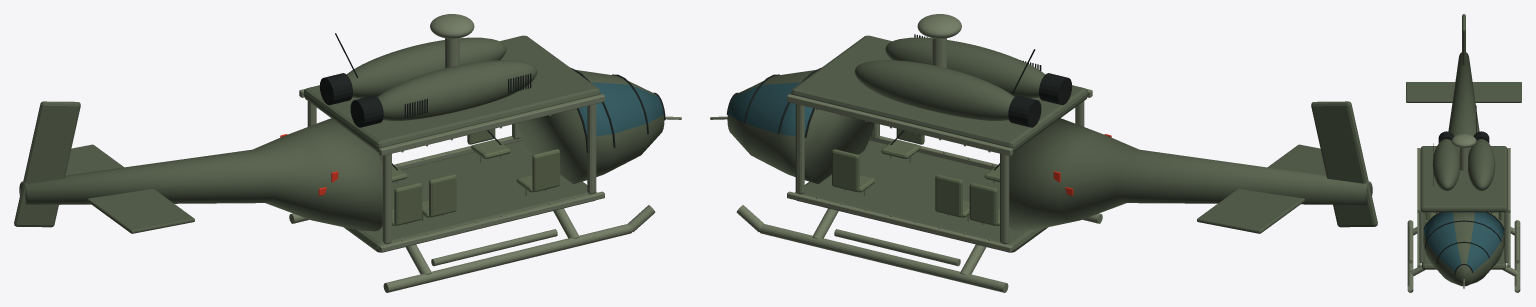
The model's file is RescueTransport.fbx.
3 views of the same model, side by side, from view 1: azimuth 30°, elevation 25°; view 2: azimuth 150°, elevation 25°; view 3: azimuth 270°, elevation 25° (orthographic). The views are drawn at different scales.
Parts seen in each view (by area): view 1: RescueTransport; view 2: RescueTransport; view 3: RescueTransport.
Boxes of the visible parts, x1,y1,x2,y2 form: RescueTransport: (14, 14, 681, 292); RescueTransport: (710, 14, 1377, 292); RescueTransport: (1406, 14, 1521, 292).
Bounding box in the file's own units: 1355 × 360 × 444.
